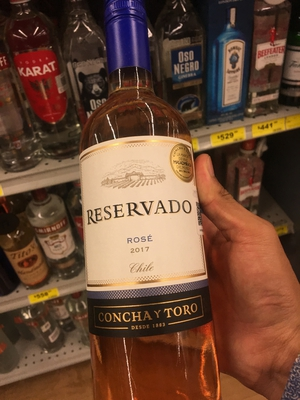reservado rose: (74, 4, 223, 400)
